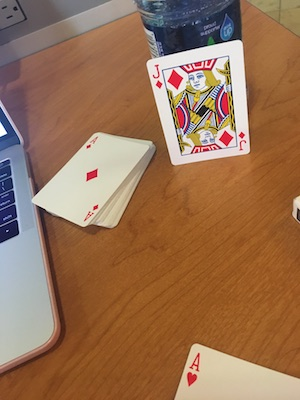AceOfDiamonds: (25, 125, 157, 232)
AceOfHearts: (144, 339, 300, 399)
JackOfDiamonds: (141, 37, 255, 165)
